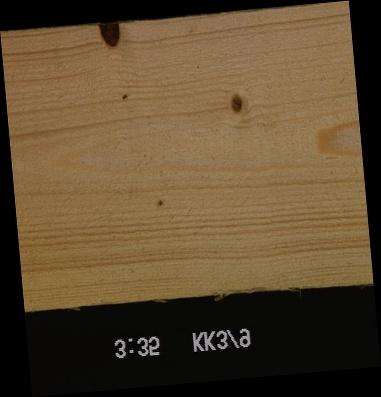small_knot: (154, 198, 164, 207)
sound_knot: (227, 92, 243, 114)
